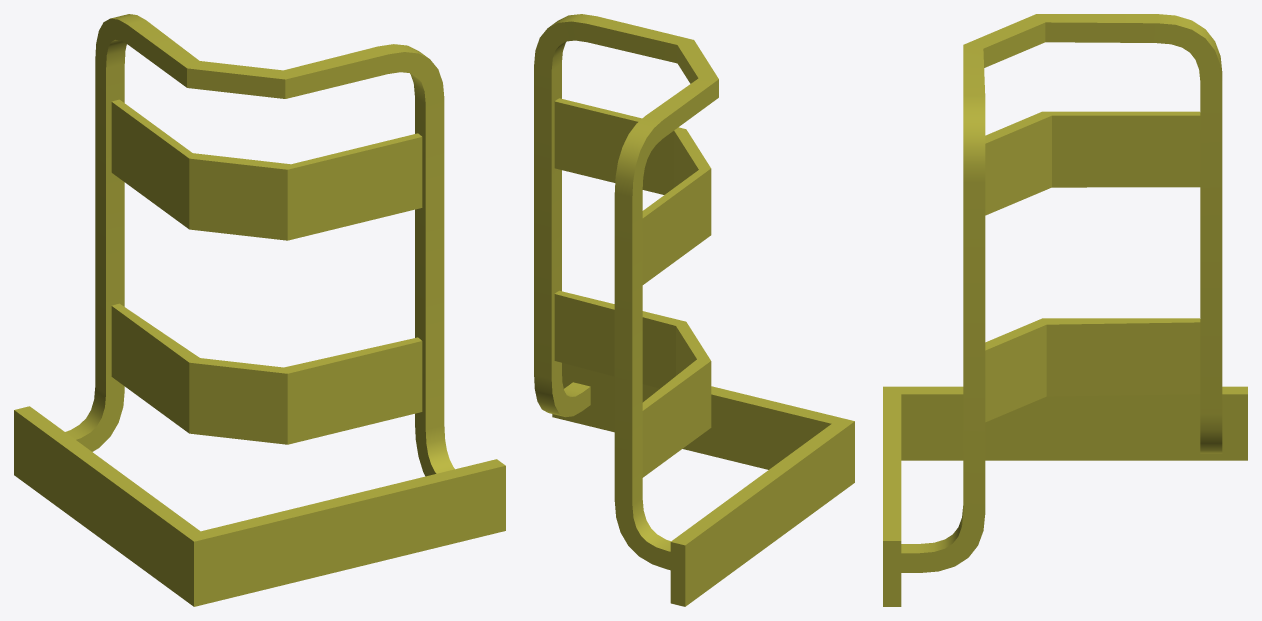
File: Railings_A_2m_TurnIn.FBX
3 views of the same model, side by side, from view 1: azimuth 30°, elevation 25°; view 2: azimuth 150°, elevation 25°; view 3: azimuth 270°, elevation 25° (orthographic). The views are drawn at different scales.
Visible parts, largest first — view 1: Railings_A_2m_TurnIn; view 2: Railings_A_2m_TurnIn; view 3: Railings_A_2m_TurnIn.
Part boxes in pixels (x1,y1,x2,y2): Railings_A_2m_TurnIn: (14, 14, 505, 606); Railings_A_2m_TurnIn: (534, 14, 854, 606); Railings_A_2m_TurnIn: (883, 14, 1247, 606).
Size of the model in its own units: 100 by 143 by 100.
